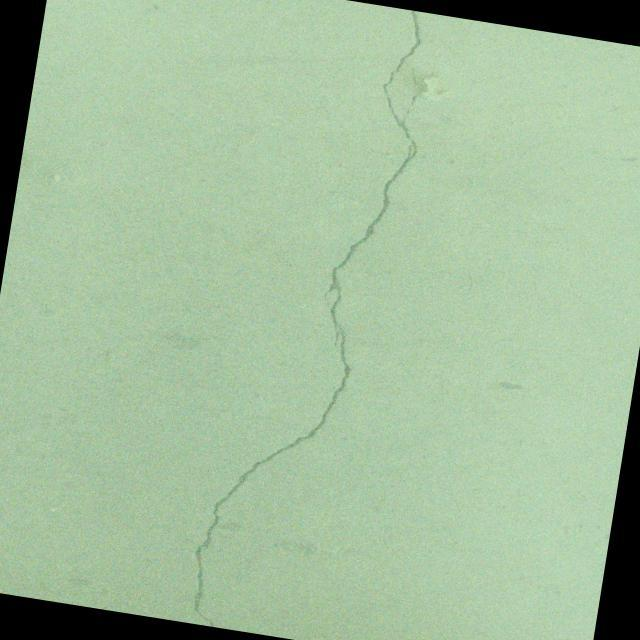crack: (183, 0, 438, 640)
